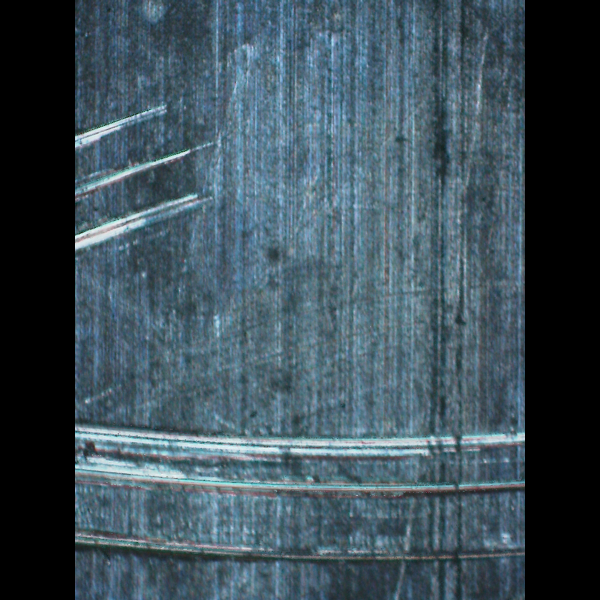d: (77, 407, 525, 570), (75, 71, 227, 270)
